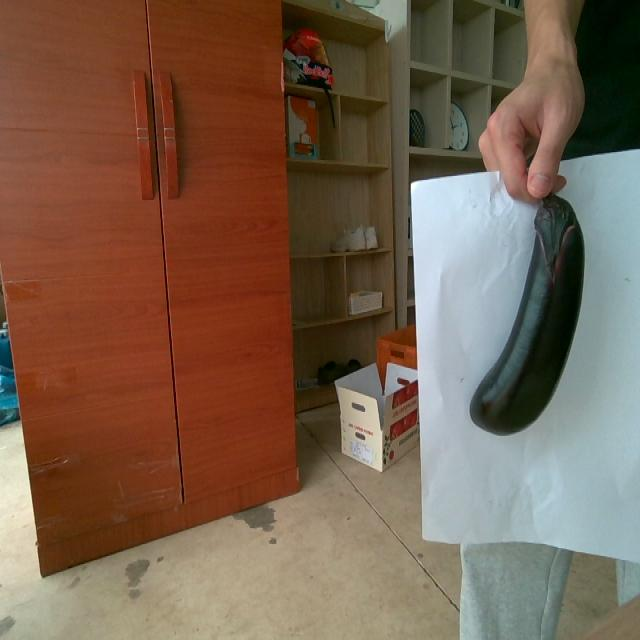Egg plant: (470, 195, 583, 435)
